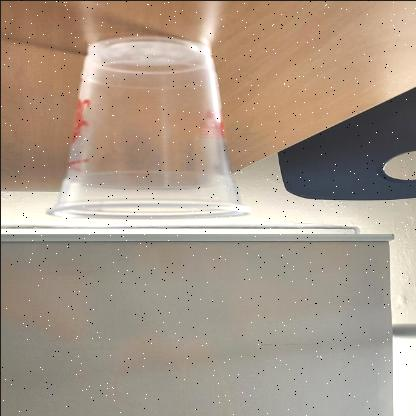Others: (43, 38, 249, 220)
